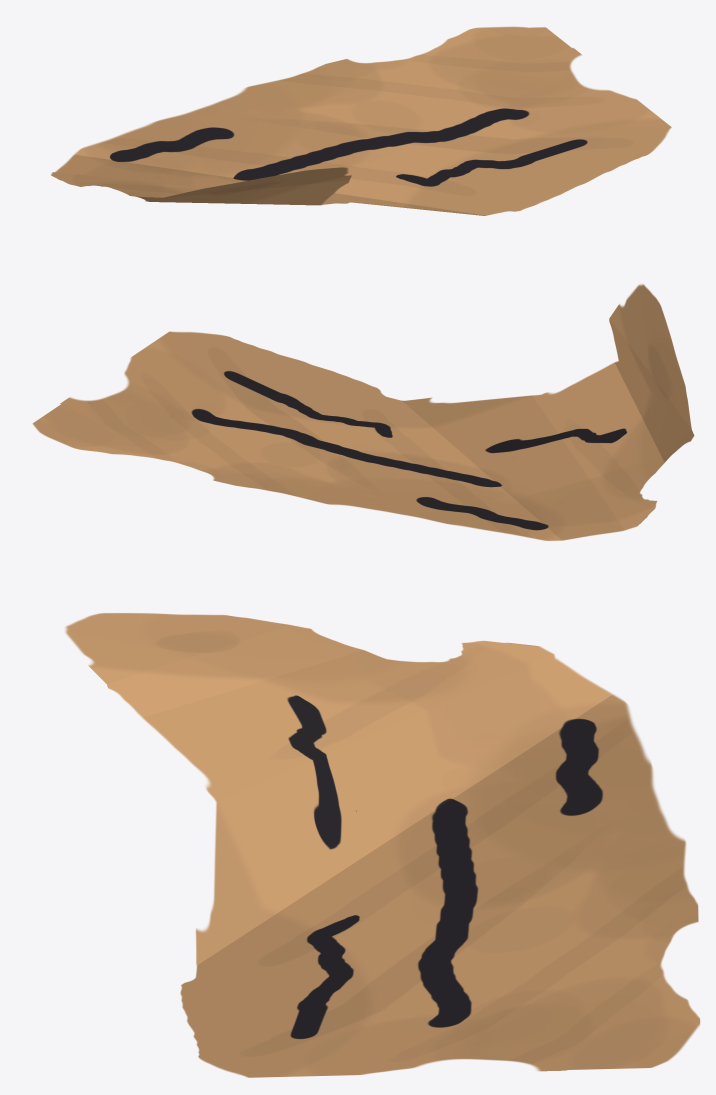
Rendered from torn_page.glb.
3 views of the same model, one above another, from view 1: azimuth 30°, elevation 25°; view 2: azimuth 150°, elevation 25°; view 3: azimuth 270°, elevation 25° (orthographic). The views are drawn at different scales.
Parts seen in each view (by area): view 1: Page; view 2: Page; view 3: Page.
Boxes of the visible parts, <box> form: Page: <box>51,26,671,215</box>; Page: <box>32,284,694,540</box>; Page: <box>65,613,700,1077</box>.
Bounding box in the file's own units: 4.57 × 1.22 × 3.23.
1 material, 1 textured.
